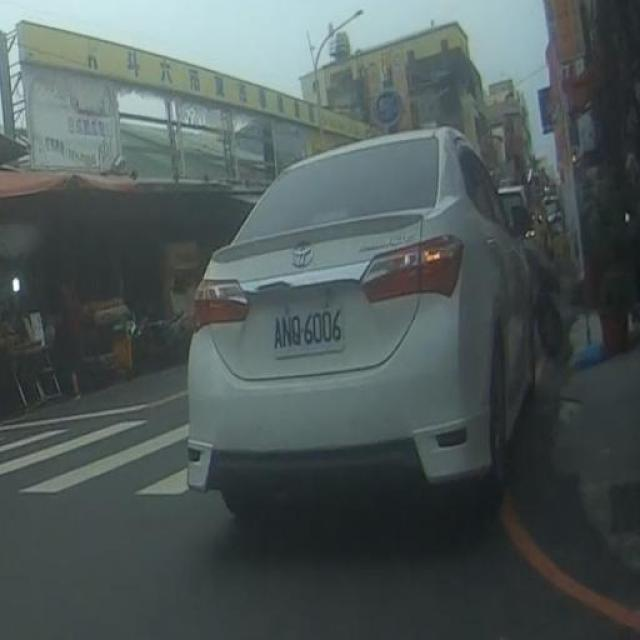illegalparking: (188, 126, 534, 519)
